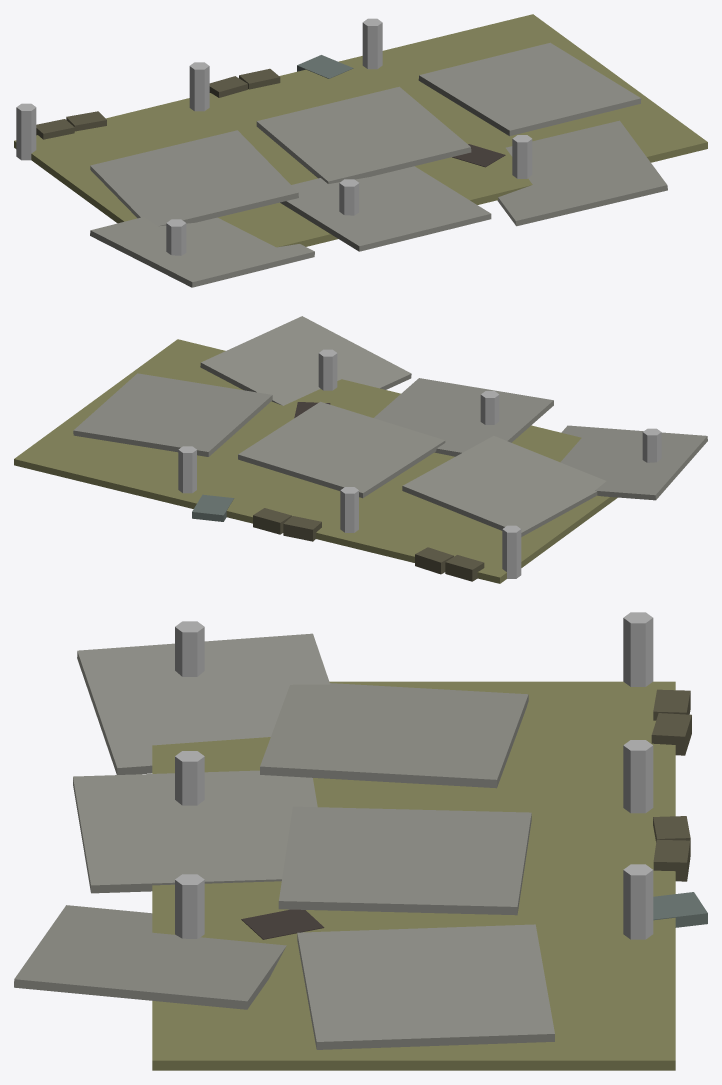
File: SM_MarquesinaBus_v2_Barricada_e3_Brecha_LOD1.fbx
The picture shows the model from 3 angles, top to bottom: view 1: azimuth 30°, elevation 25°; view 2: azimuth 150°, elevation 25°; view 3: azimuth 270°, elevation 25°; orthographic projection. The views are drawn at different scales.
Visible parts, largest first — view 1: SM_marquesina_bus_v11_LOD1; view 2: SM_marquesina_bus_v11_LOD1; view 3: SM_marquesina_bus_v11_LOD1.
Boxes of the visible parts, <box> form: SM_marquesina_bus_v11_LOD1: <box>14,14,707,287</box>; SM_marquesina_bus_v11_LOD1: <box>14,316,707,583</box>; SM_marquesina_bus_v11_LOD1: <box>14,612,707,1070</box>.
Bounding box in the file's own units: 13.05 × 1.16 × 9.29.
